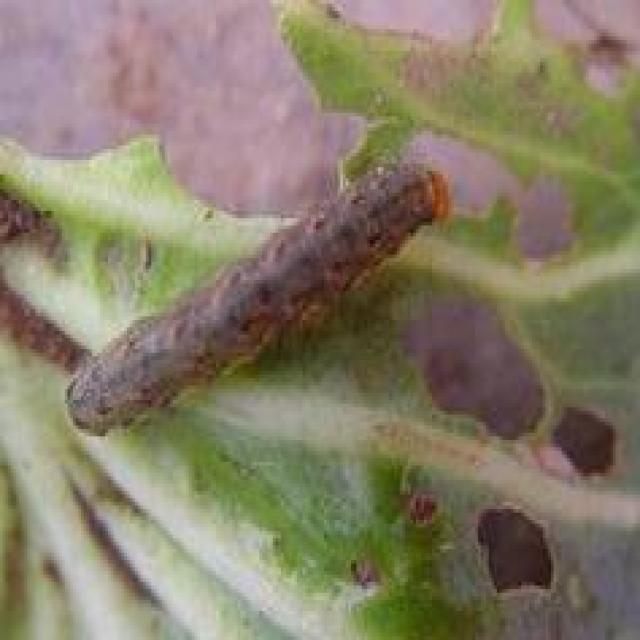BeetArmyWorm-Larva-: (54, 148, 462, 438)
